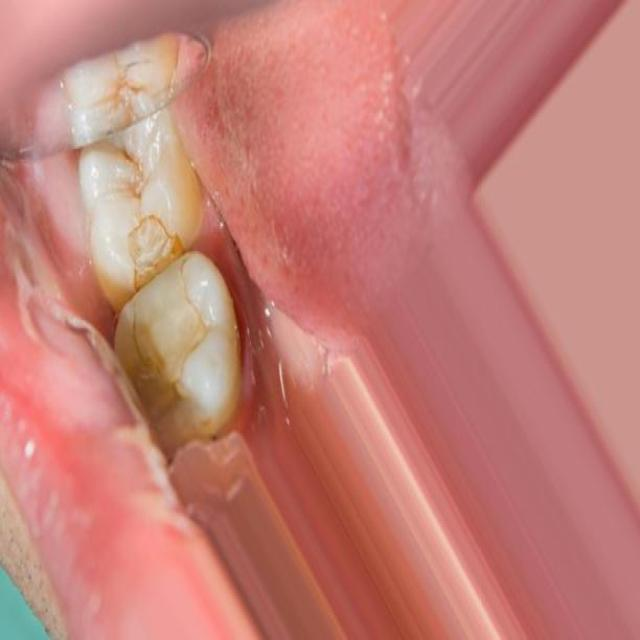caries: (115, 208, 226, 421)
